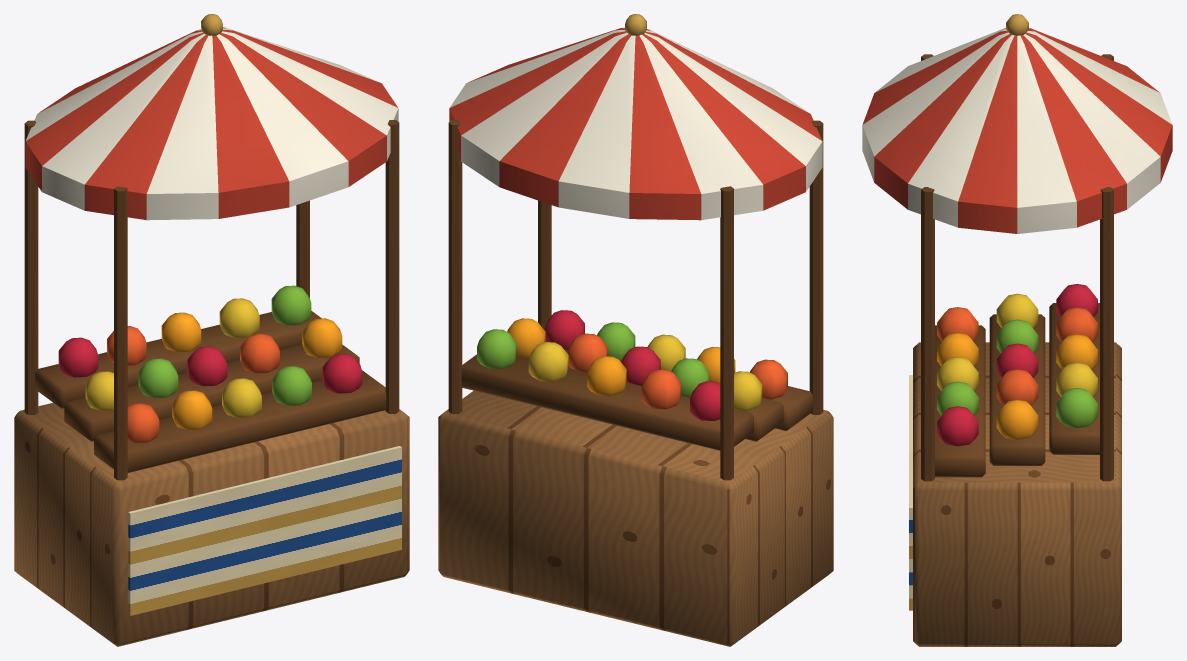
File: prop_stall.glb
The picture shows the model from 3 angles, left to right: view 1: azimuth 30°, elevation 25°; view 2: azimuth 150°, elevation 25°; view 3: azimuth 270°, elevation 25°; orthographic projection.
Parts seen in each view (by area): view 1: prop_stall; view 2: prop_stall; view 3: prop_stall.
Boxes of the visible parts, box(x1,y1,x2,y2) form: prop_stall: box(14, 14, 409, 646); prop_stall: box(438, 14, 833, 646); prop_stall: box(862, 14, 1172, 646).
Bounding box in the file's own units: 1.9 × 3 × 1.5.
1 material, 1 textured.
